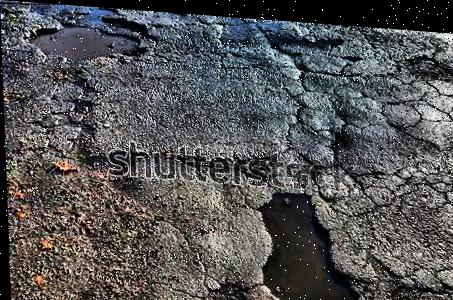pothole: (248, 182, 358, 300), (17, 8, 150, 67), (198, 274, 254, 300), (403, 45, 453, 74)
